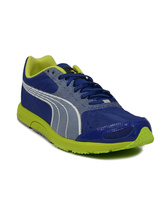shoes: (15, 55, 159, 155)
